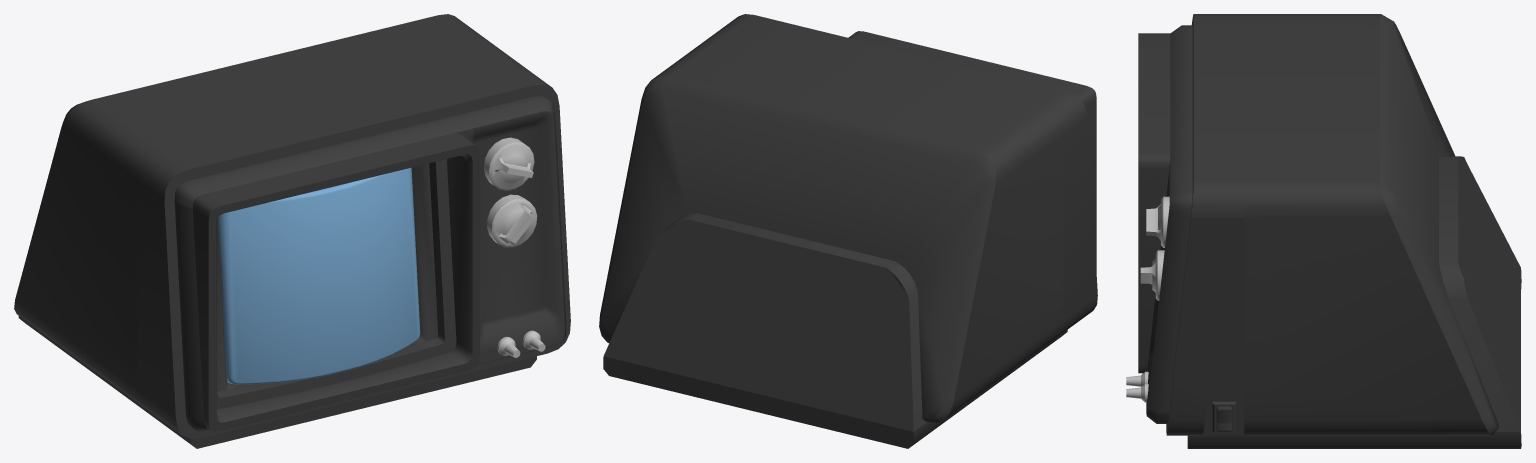
File: TV_Hat.fbx
The picture shows the model from 3 angles, left to right: view 1: azimuth 30°, elevation 25°; view 2: azimuth 150°, elevation 25°; view 3: azimuth 270°, elevation 25°; orthographic projection. The views are drawn at different scales.
Parts seen in each view (by area): view 1: TV; view 2: TV; view 3: TV.
Boxes of the visible parts, bbox=[...] form: TV: bbox=[14, 14, 570, 448]; TV: bbox=[599, 14, 1097, 448]; TV: bbox=[1126, 14, 1521, 448].
Bounding box in the file's own units: 189 × 127 × 169.
